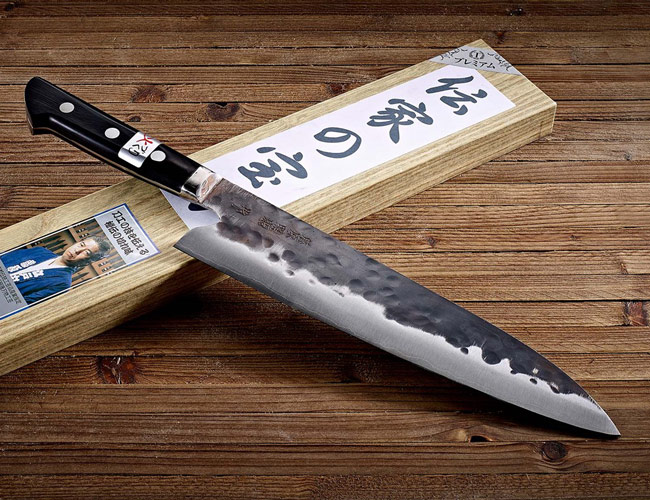knife: (24, 76, 624, 438)
